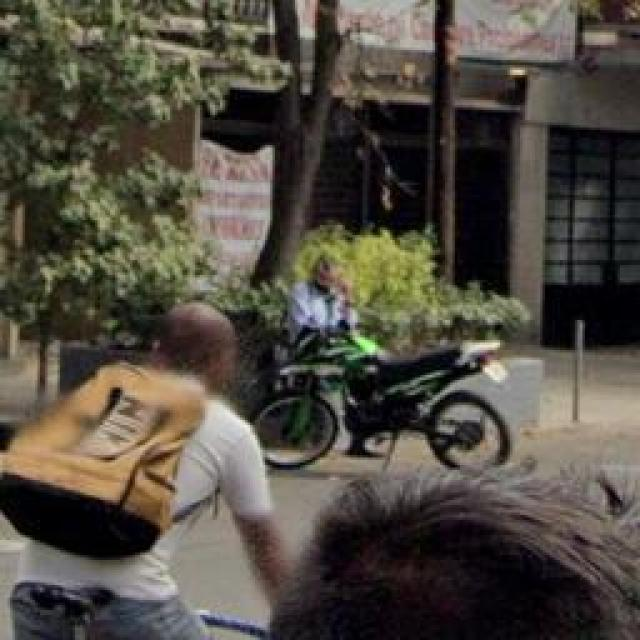motorbike: (255, 300, 527, 487)
